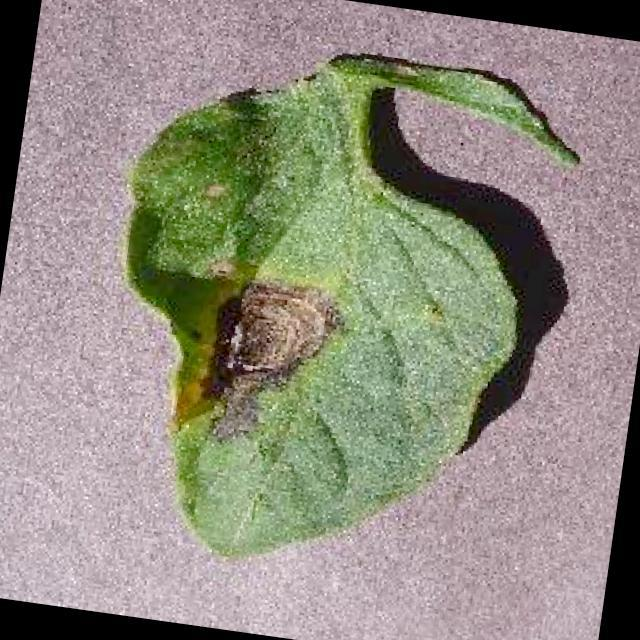Tomato Early blight leaf: (73, 22, 585, 602)
